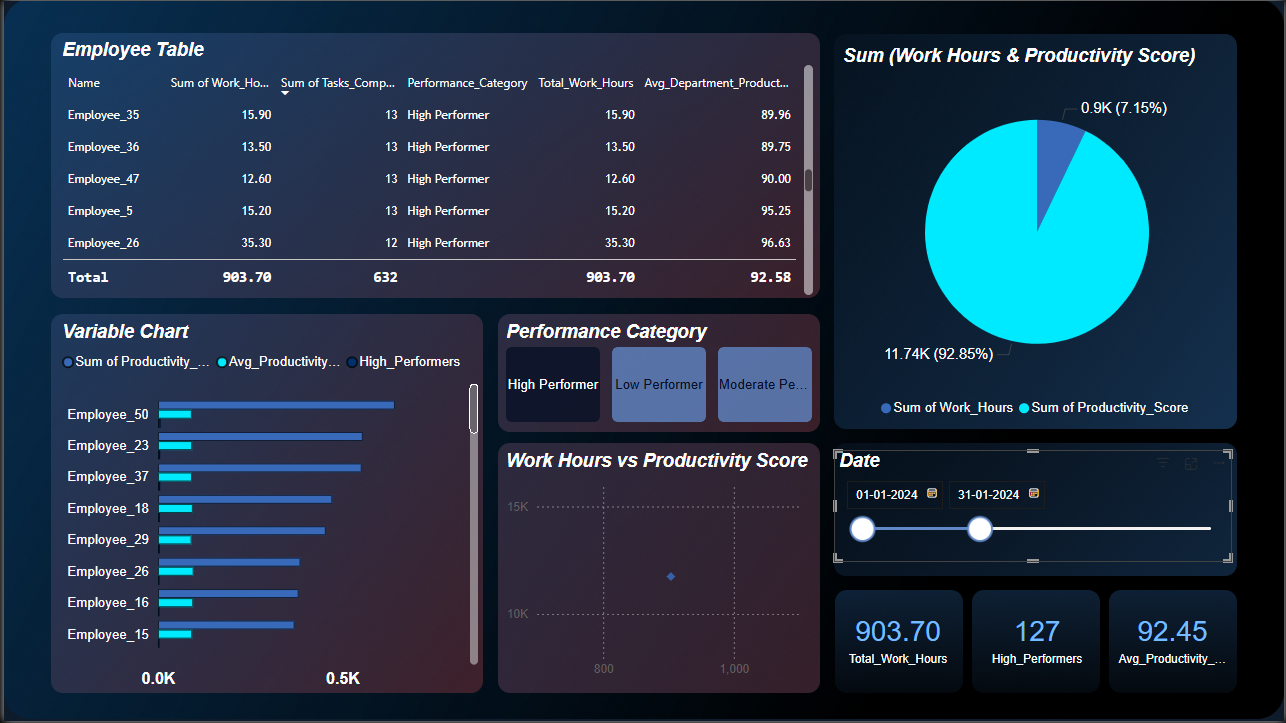

The dashboard page shown, as its layout file describes it:
{"tool":"powerbi","page":{"name":"Page 1","canvas":[1280,720],"ordinal":0},"visuals":[{"type":"clusteredBarChart","title":"Variable Chart","fields":{"Category":["Sheet1.Name"],"Y":["Sum(Sheet1.Productivity_Score)","Sheet1.Avg_Productivity_Score","Sheet1.High_Performers"]},"box":[53.3,320,425.6,374.4],"z":0},{"type":"scatterChart","title":"Work Hours vs Productivity Score","fields":{"X":["Sum(Sheet1.Work_Hours)"],"Y":["Sum(Sheet1.Productivity_Score)"]},"box":[496.7,448.9,318.9,235.6],"z":1000},{"type":"tableEx","title":"Employee Table","fields":{"Values":["Sheet1.Name","Sum(Sheet1.Work_Hours)","Sum(Sheet1.Tasks_Completed)","Sheet1.Performance_Category","Sheet1.Total_Work_Hours","Sheet1.Avg_Department_Productivity"]},"box":[53.3,37.8,761.1,261.1],"z":2000},{"type":"card","fields":{"Values":["Sheet1.Avg_Productivity_Score"]},"box":[1108.9,585.4,118.9,102.2],"z":3000},{"type":"card","fields":{"Values":["Sheet1.High_Performers"]},"box":[972.2,585.4,122.2,102.2],"z":4000},{"type":"card","fields":{"Values":["Sheet1.Total_Work_Hours"]},"box":[831.1,585.4,125.6,102.2],"z":5000},{"type":"pieChart","title":"Sum (Work Hours & Productivity Score)","fields":{"Y":["Sum(Sheet1.Work_Hours)","Sum(Sheet1.Productivity_Score)"]},"box":[834.4,44.4,397.8,381.1],"z":6000},{"type":"slicer","title":"Date","fields":{"Values":["Sheet1.Date"]},"box":[830,448.9,397.8,112.2],"z":7000},{"type":"advancedSlicerVisual","title":"Performance Category","fields":{"Values":["Sheet1.Performance_Category"]},"box":[496.7,320,317.8,105.6],"z":8001}]}

Visuals, with their boxes in screenshot pixels (x1, y1, x2, y2), scaled from the page's 1280x720 canvas onto the 1286x723 screenshot:
"Variable Chart" clusteredBarChart: 54 321 481 697
"Work Hours vs Productivity Score" scatterChart: 499 451 819 687
"Employee Table" tableEx: 54 38 818 300
card - Sheet1.Avg_Productivity_Score: 1114 588 1234 690
card - Sheet1.High_Performers: 977 588 1100 690
card - Sheet1.Total_Work_Hours: 835 588 961 690
"Sum (Work Hours & Productivity Score)" pieChart: 838 45 1238 427
"Date" slicer: 834 451 1234 563
"Performance Category" advancedSlicerVisual: 499 321 818 427
